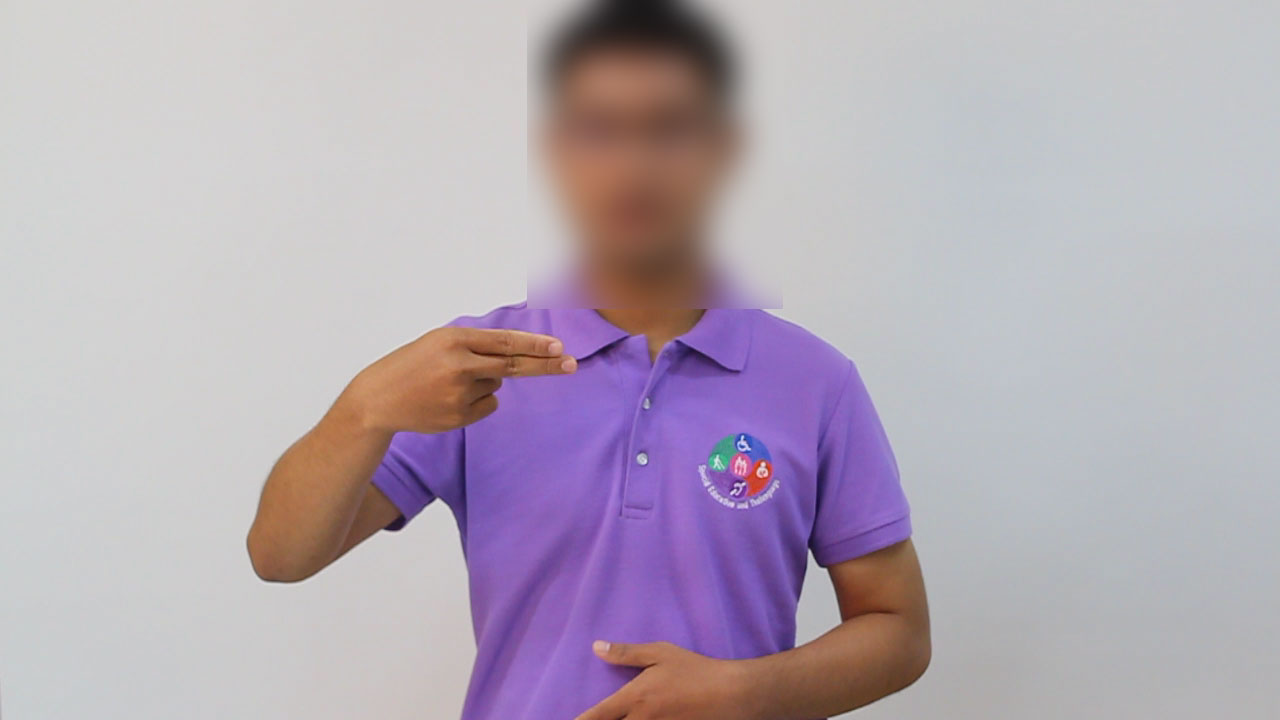hor: (345, 320, 587, 444)
